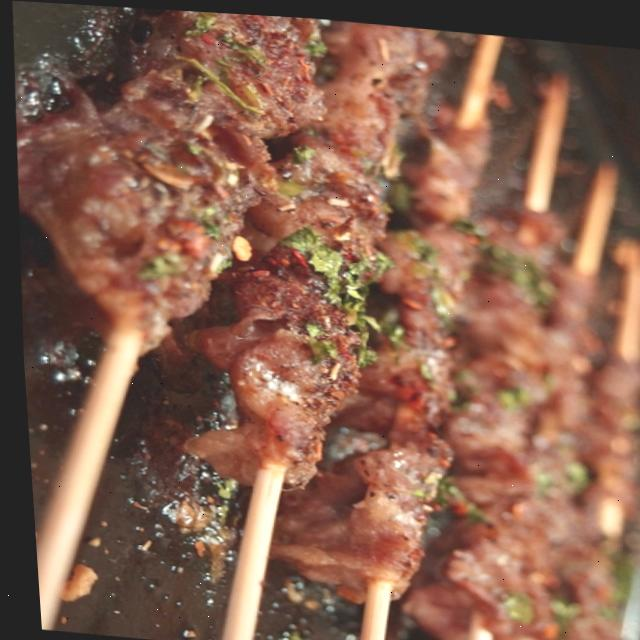烧串烤肉: (12, 1, 640, 640)
